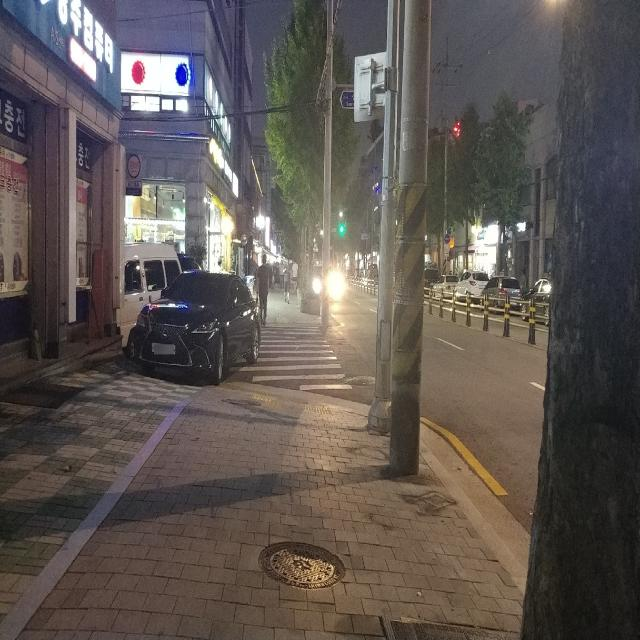횡단보도: (229, 328, 353, 390)
